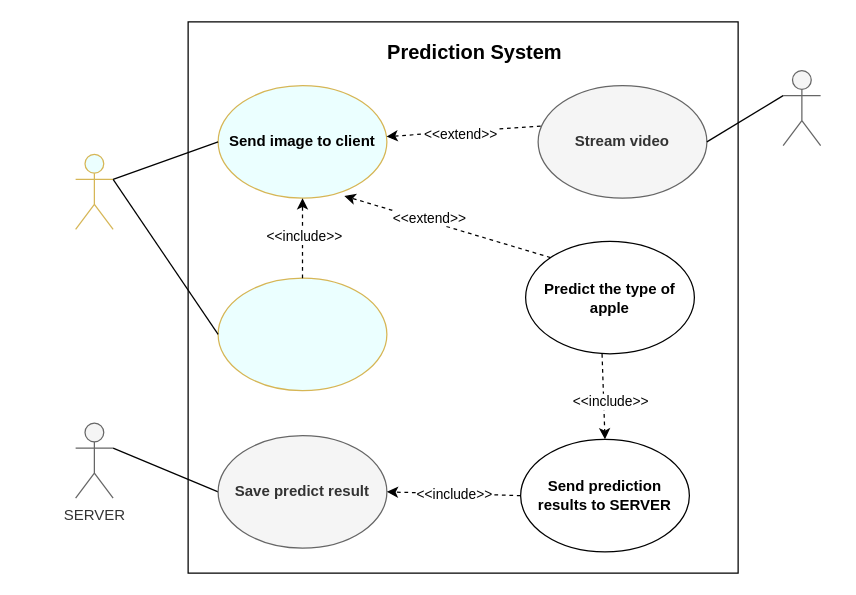
Some shapes in this 856 by 595 pixel diagram are drawn without their labels. Here are the shapes that lost their labels. From the top down, the centre of each, then its label:
At pixel 801 107: "Blynk app".
At pixel 93 191: "ESP32CAM-SERVER".
At pixel 302 334: "Capture image".
